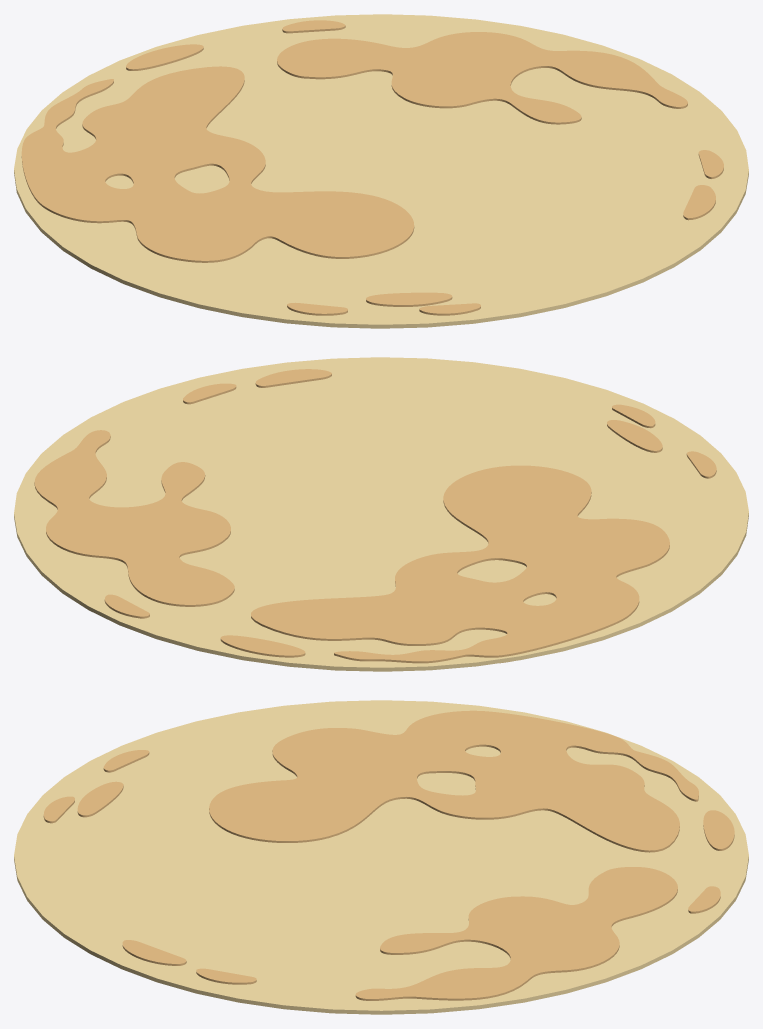
The model's file is emoji_u1f315.glb.
The picture shows the model from 3 angles, top to bottom: view 1: azimuth 30°, elevation 25°; view 2: azimuth 150°, elevation 25°; view 3: azimuth 270°, elevation 25°; orthographic projection.
Visible parts, largest first — view 1: emoji_u1f315; view 2: emoji_u1f315; view 3: emoji_u1f315.
Part boxes in pixels (<box>): emoji_u1f315: <box>14,14,748,328</box>; emoji_u1f315: <box>14,357,748,671</box>; emoji_u1f315: <box>14,700,748,1014</box>.
Bounding box in the file's own units: 0.0339 × 0.0004 × 0.0339.
